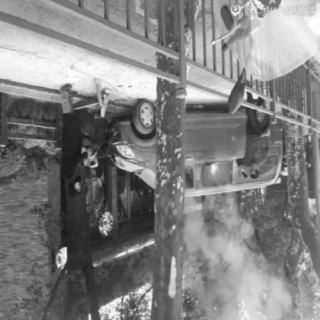Fire: (207, 160, 223, 184)
Smoke: (181, 204, 203, 254)
